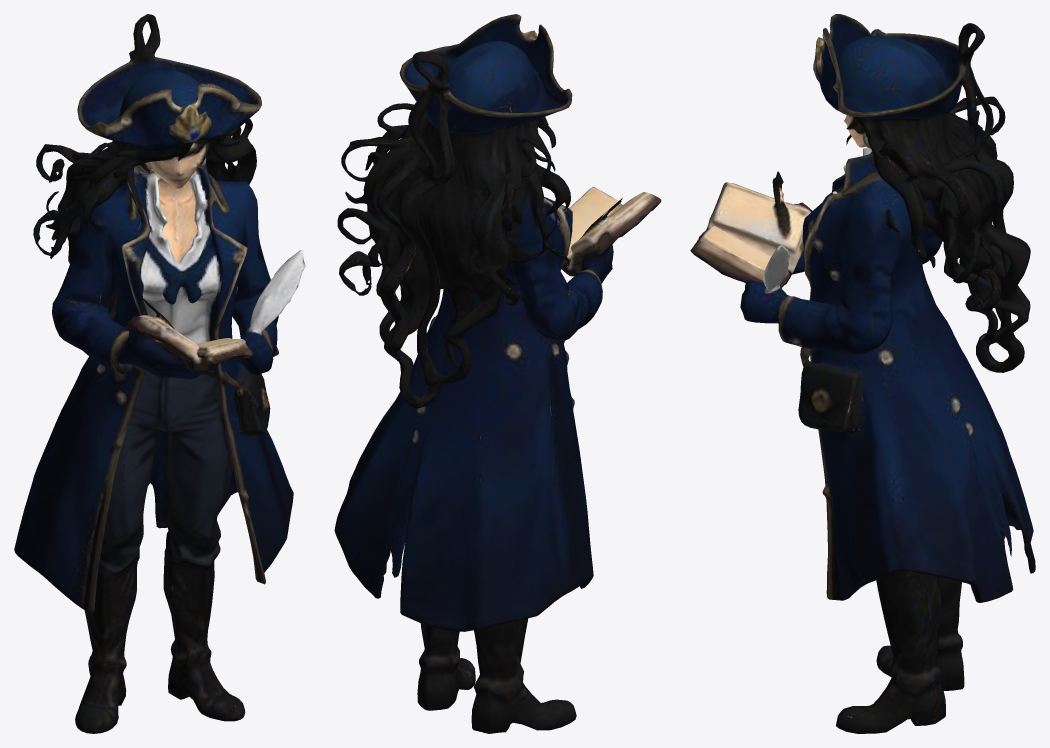
Rendered from barnacle_quinn.glb.
3 renders of one model, left to right at view 1: azimuth 30°, elevation 25°; view 2: azimuth 150°, elevation 25°; view 3: azimuth 270°, elevation 25°, orthographic. The views are drawn at different scales.
Size of the model in its own units: 0.3551 by 0.9222 by 0.4188.
Materials: 1 (1 with a texture image).
